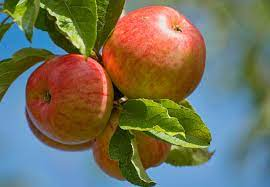Apple: (102, 4, 208, 101), (26, 53, 114, 144), (92, 103, 178, 181)
